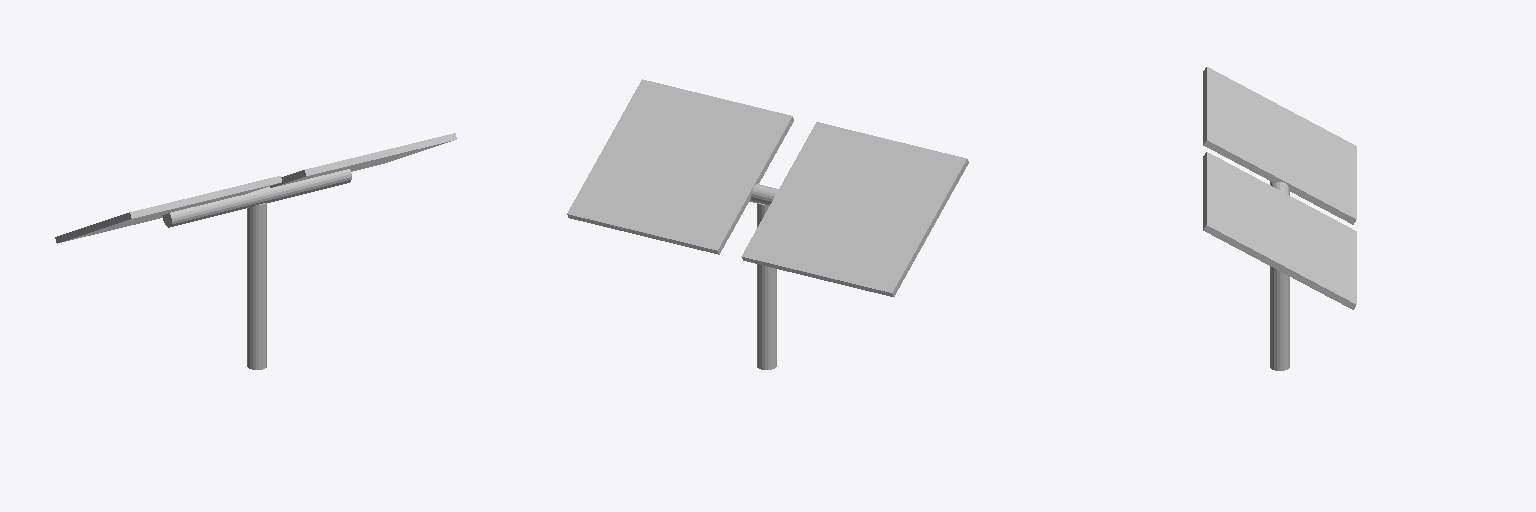
Rendered from SolarPanel3_OBJ.obj.
3 views of the same model, side by side, from view 1: azimuth 30°, elevation 25°; view 2: azimuth 150°, elevation 25°; view 3: azimuth 270°, elevation 25° (orthographic).
Visible parts, largest first — view 1: SolarPanel3; view 2: SolarPanel3; view 3: SolarPanel3.
Boxes of the visible parts, box(x1,y1,x2,y2) form: SolarPanel3: box(55, 133, 456, 369); SolarPanel3: box(567, 79, 968, 369); SolarPanel3: box(1203, 67, 1356, 370).
Size of the model in its own units: 5.91 by 3.83 by 2.42.